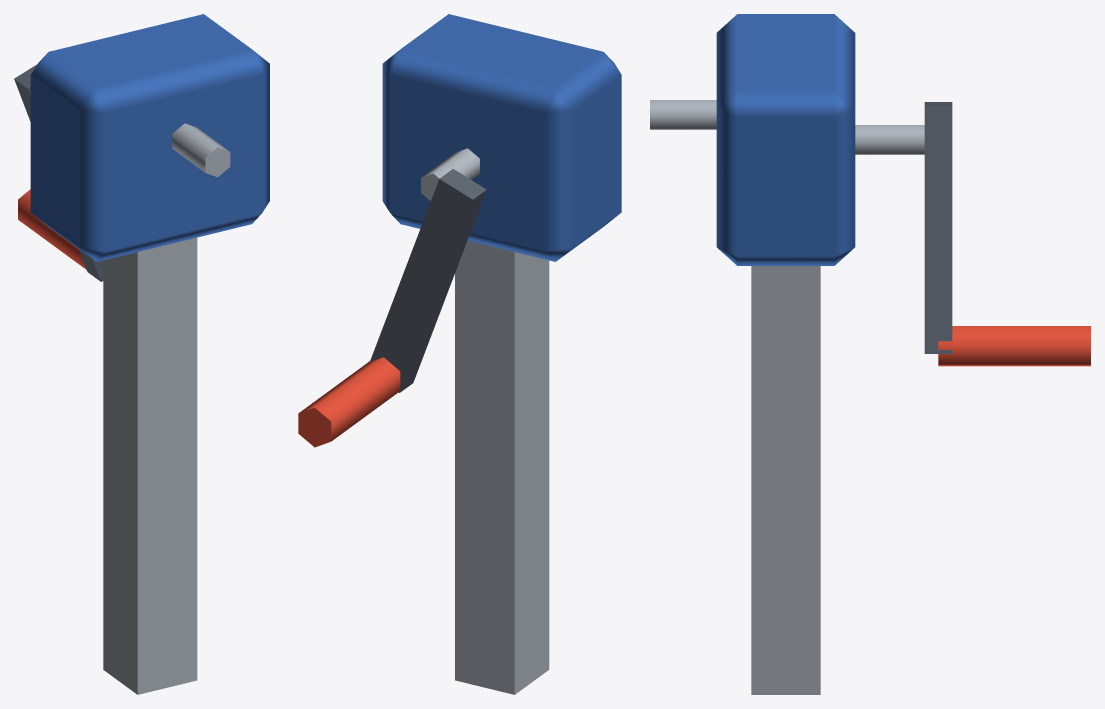
The model's file is station_transport_ausstattung_2_0.glb.
3 renders of one model, left to right at view 1: azimuth 30°, elevation 25°; view 2: azimuth 150°, elevation 25°; view 3: azimuth 270°, elevation 25°, orthographic.
Parts seen in each view (by area): view 1: station_transport_ausstattung_2_0; view 2: station_transport_ausstattung_2_0; view 3: station_transport_ausstattung_2_0.
Part boxes in pixels (box(x1,y1,x2,y2)): station_transport_ausstattung_2_0: box(14, 14, 269, 694); station_transport_ausstattung_2_0: box(298, 14, 621, 694); station_transport_ausstattung_2_0: box(650, 14, 1090, 694).
Bounding box in the file's own units: 0.16 × 0.5 × 0.318.
